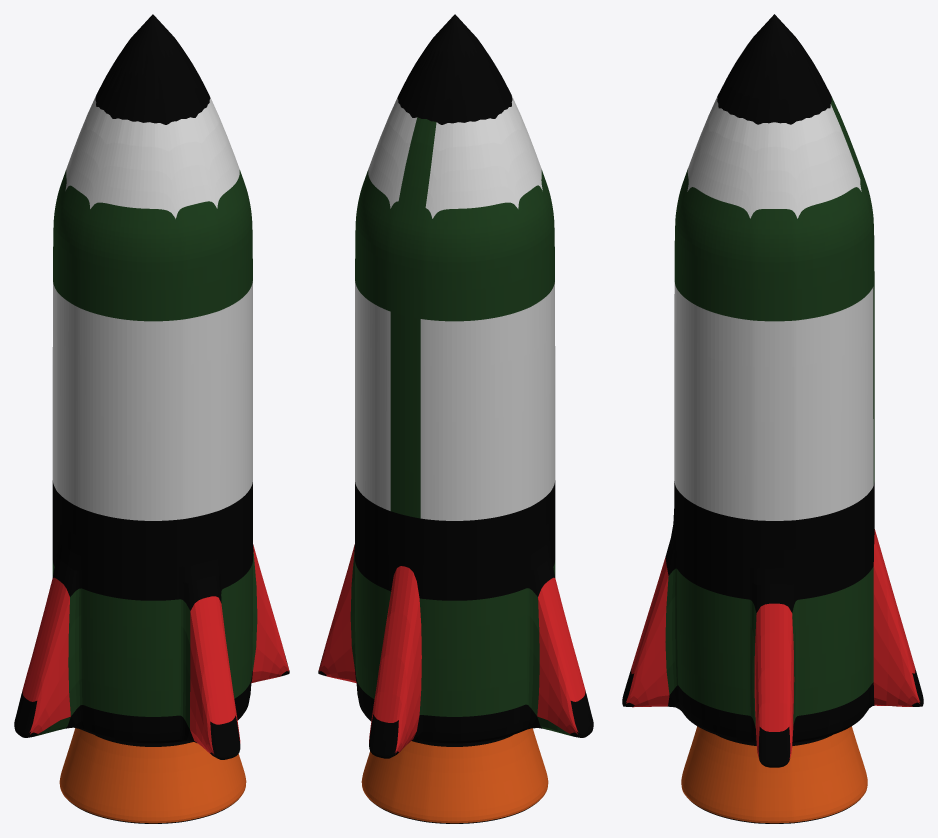
Rendered from raketa (1).fbx.
The picture shows the model from 3 angles, left to right: view 1: azimuth 30°, elevation 25°; view 2: azimuth 150°, elevation 25°; view 3: azimuth 270°, elevation 25°; orthographic projection.
Parts seen in each view (by area): view 1: Cylinder; view 2: Cylinder; view 3: Cylinder.
Part boxes in pixels (box(x1,y1,x2,y2)): Cylinder: box(14, 14, 289, 823); Cylinder: box(318, 14, 593, 823); Cylinder: box(622, 14, 923, 823).
Bounding box in the file's own units: 2543 × 7053 × 2496.
